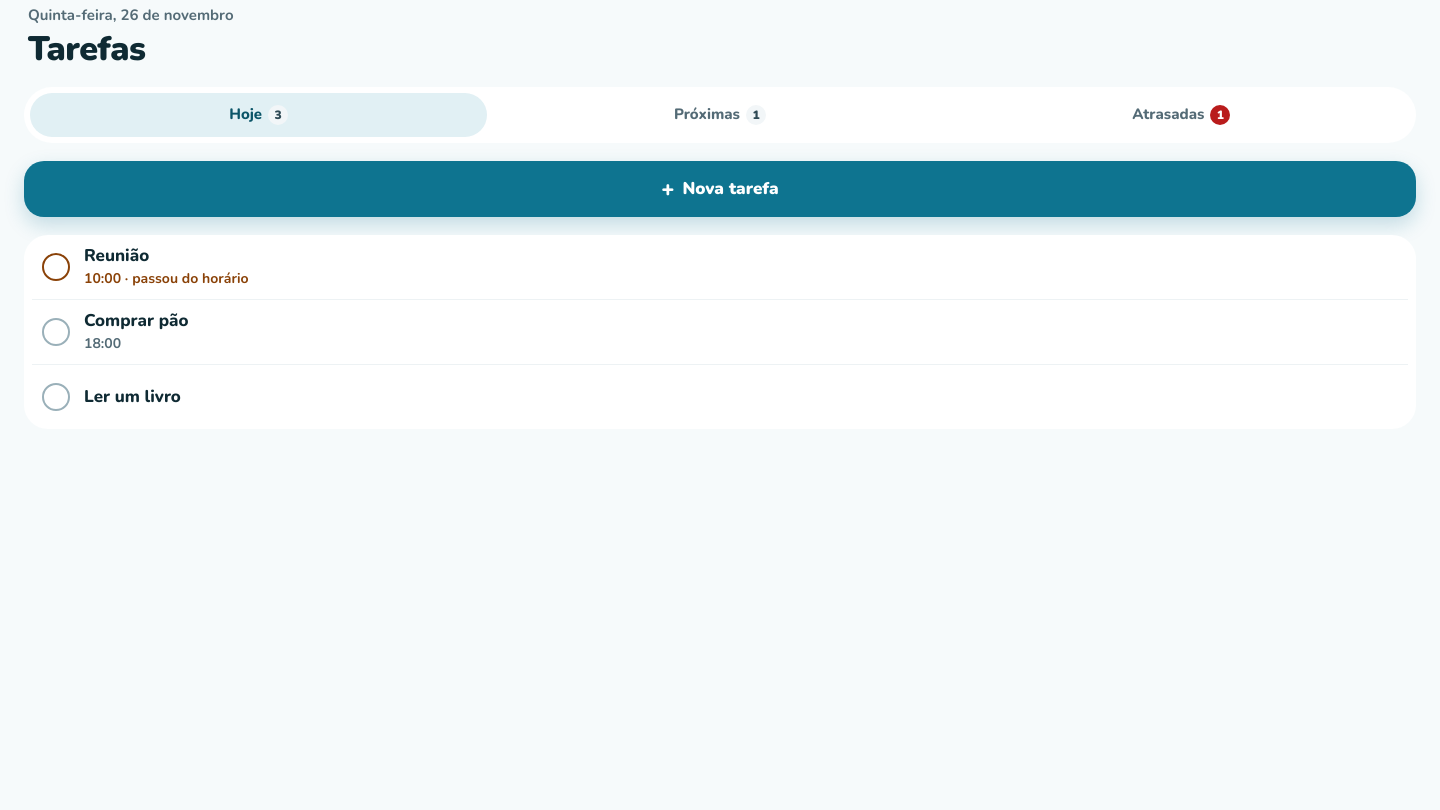
Test case: TasksPage › cria uma tarefa para amanhã com horário
Click the button "+ Nova tarefa": (720, 188) [24,160,1416,216]
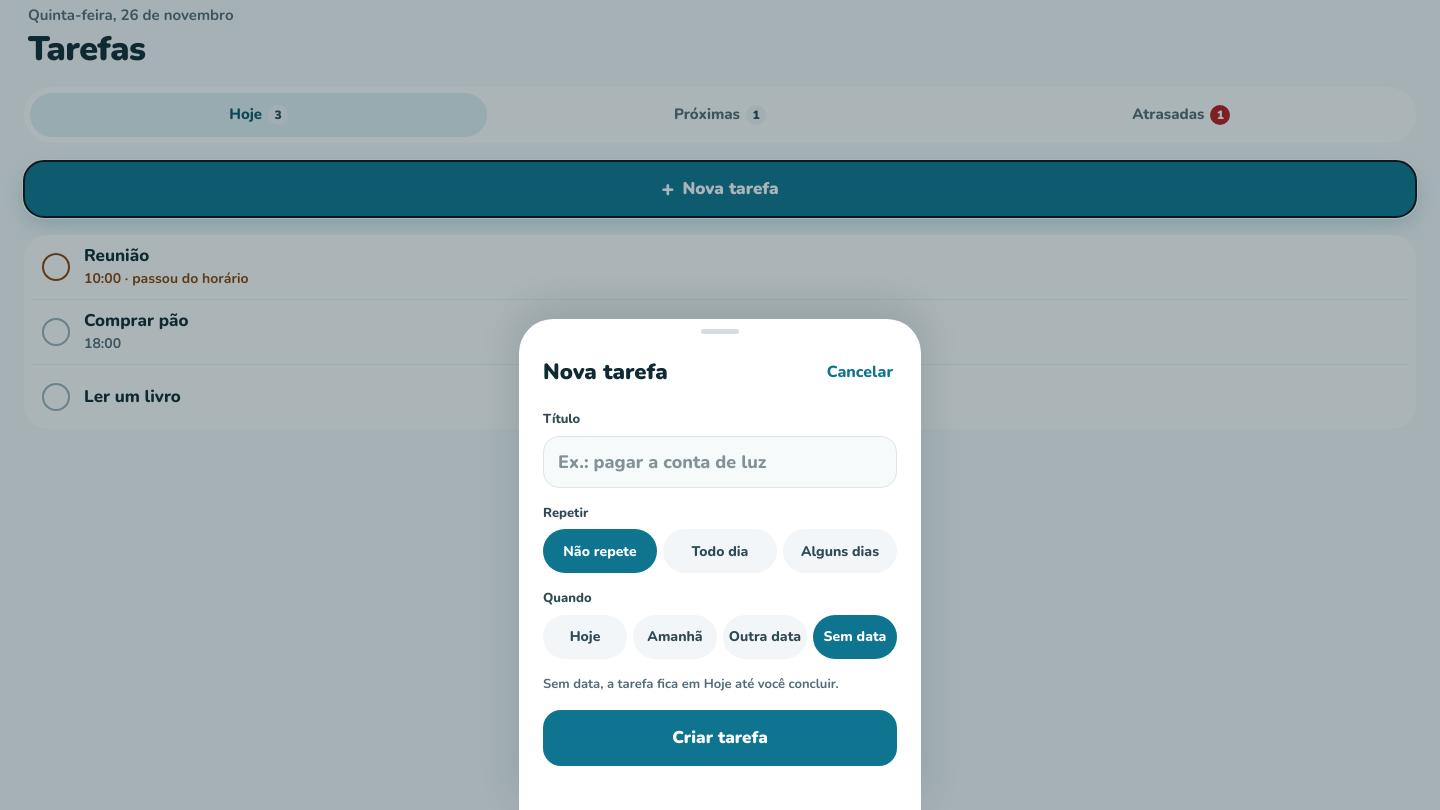
In the field with placeholder "Ex.: pagar a conta de luz": (720, 462) [543,436,897,488], type "  Mercado "
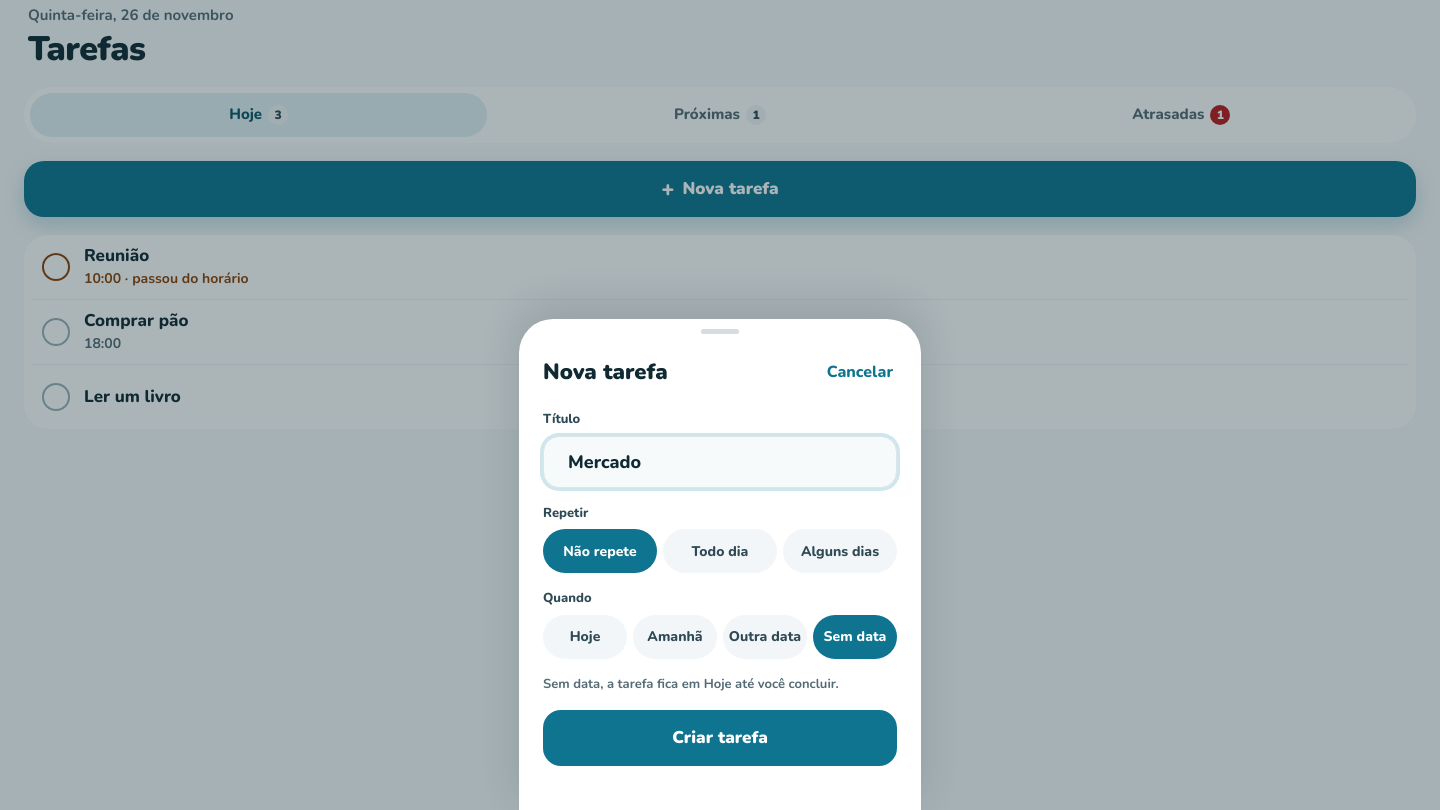
Click the button "Amanhã": (675, 636) [633,614,717,658]
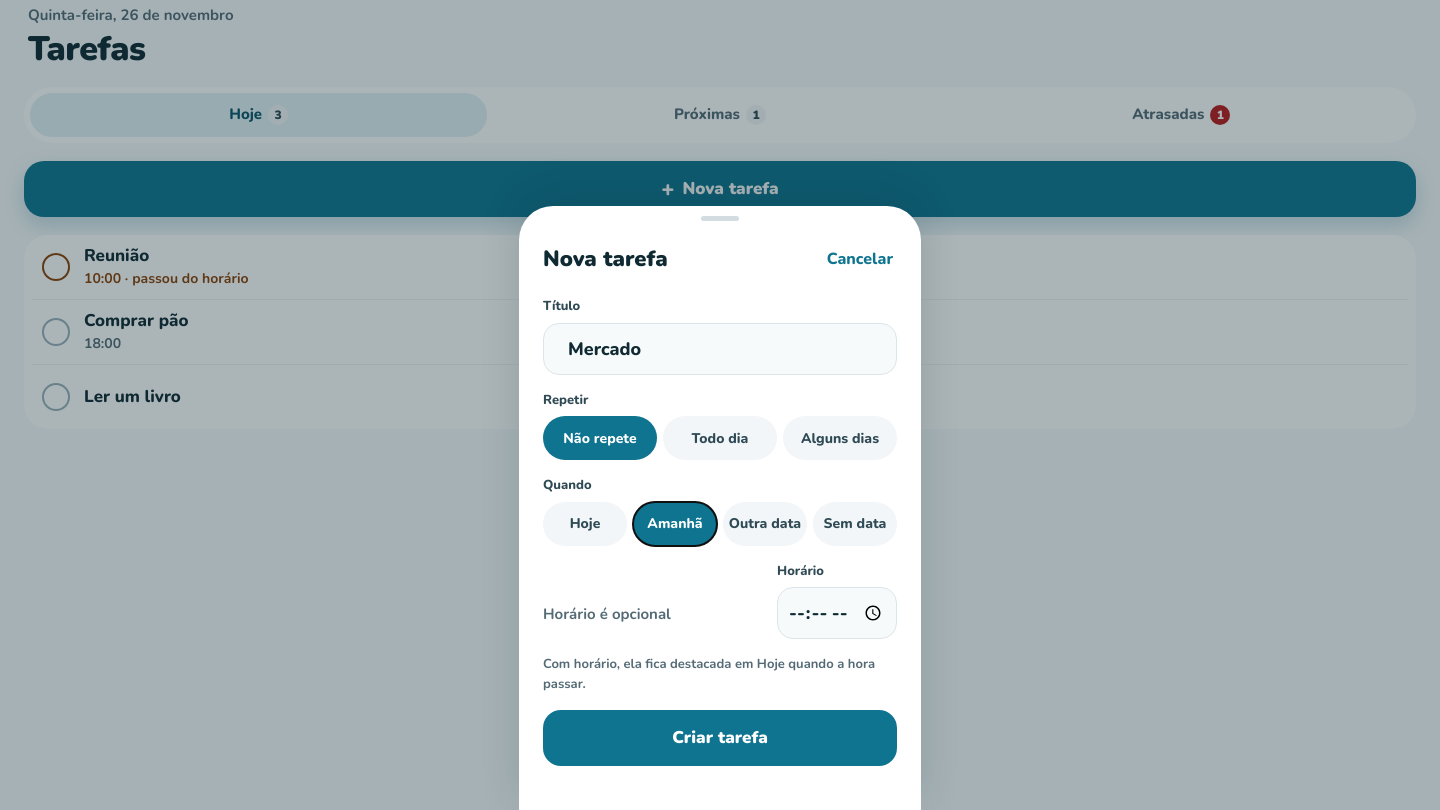
In the time field labelled "Horário": (837, 613) [777,587,897,639], type "08:30"
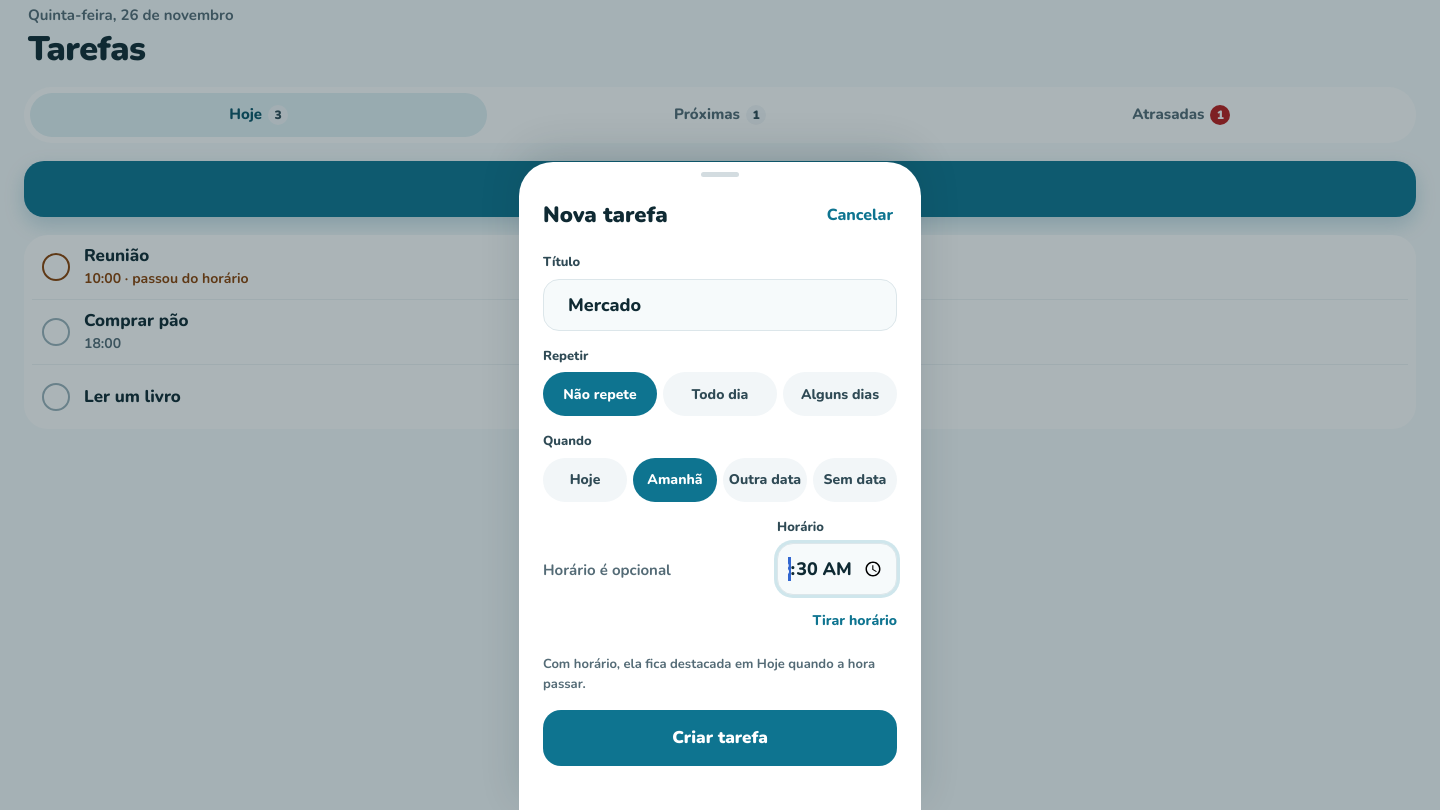
Click the button "Criar tarefa": (720, 738) [543,710,897,766]
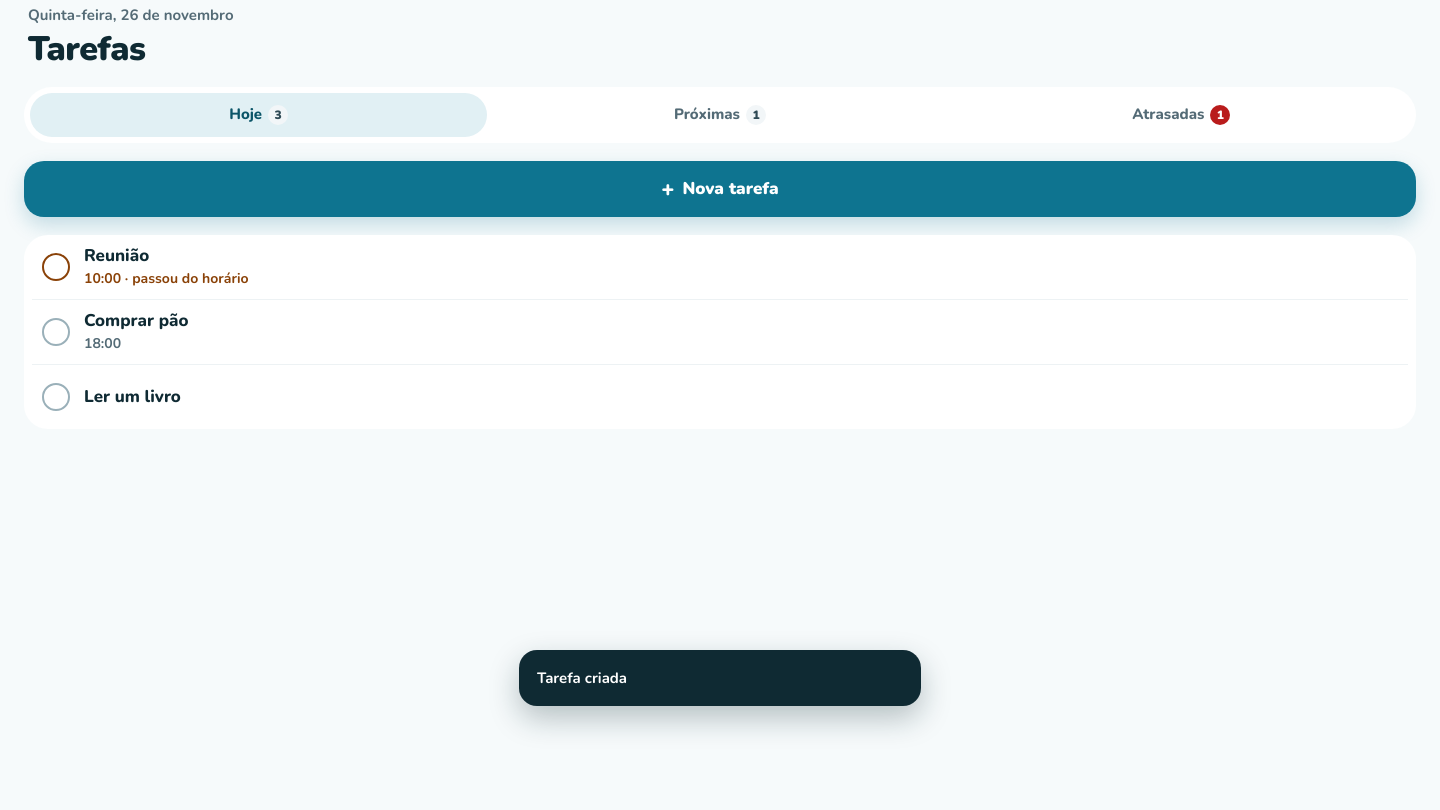
Expected: the text "Tarefa criada" is shown, [537,667,627,689]
